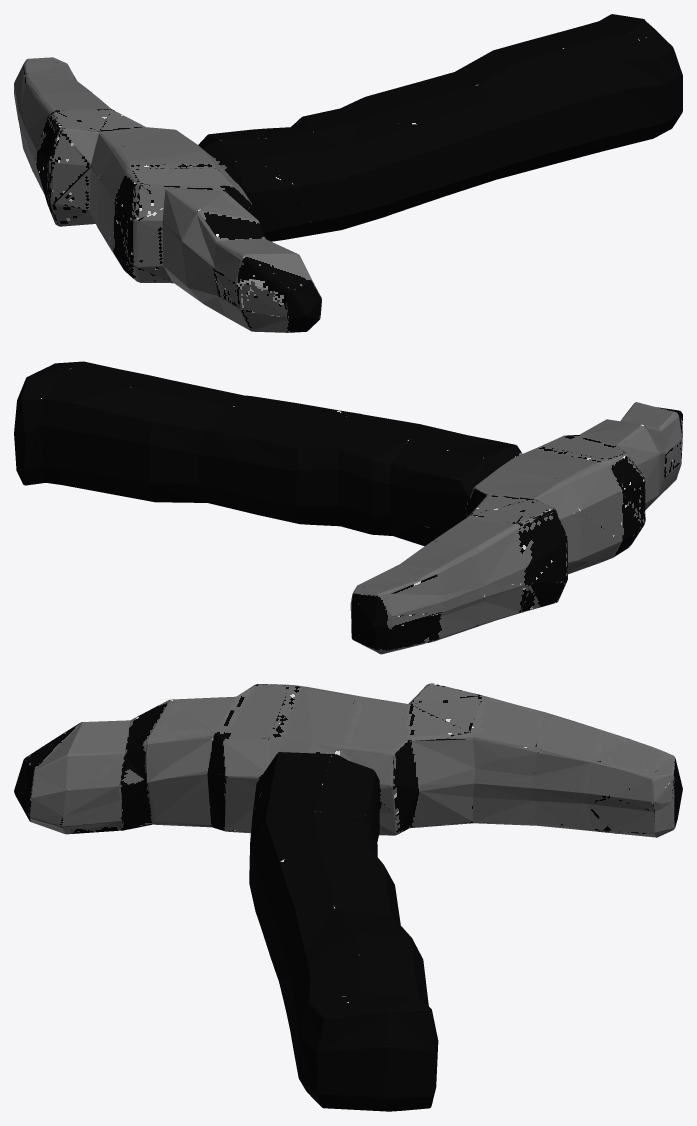
3 renders of one model, top to bottom at view 1: azimuth 30°, elevation 25°; view 2: azimuth 150°, elevation 25°; view 3: azimuth 270°, elevation 25°, orthographic. The views are drawn at different scales.
Visible parts, largest first — view 1: OBJ128; view 2: OBJ128; view 3: OBJ128.
Part boxes in pixels (x1,y1,x2,y2): OBJ128: [14, 14, 682, 332]; OBJ128: [14, 361, 682, 654]; OBJ128: [14, 683, 682, 1111].
Size of the model in its own units: 0.2622 by 0.048 by 0.2292.
Materials: 1 (1 with a texture image).
